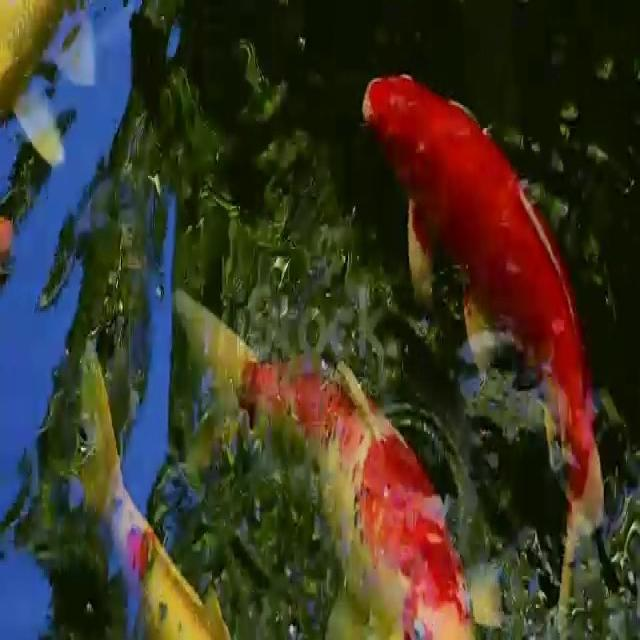fish: (192, 251, 489, 640), (361, 44, 598, 528), (58, 346, 235, 640), (0, 0, 122, 154)
